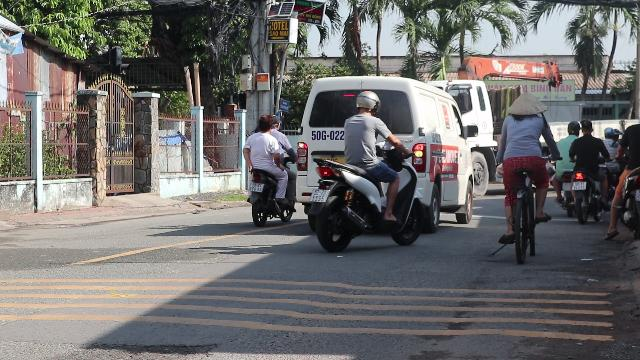helmet: (354, 90, 378, 114)
licenseplate: (311, 189, 329, 202), (248, 182, 264, 192)
motorcyclist: (310, 88, 432, 252), (241, 113, 297, 227)
nohelmet: (256, 115, 272, 133), (271, 114, 281, 130)
